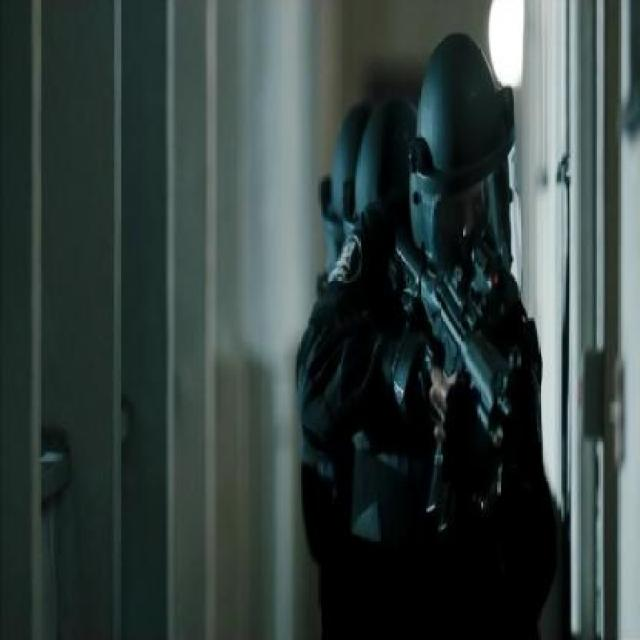guns: (385, 160, 526, 457)
